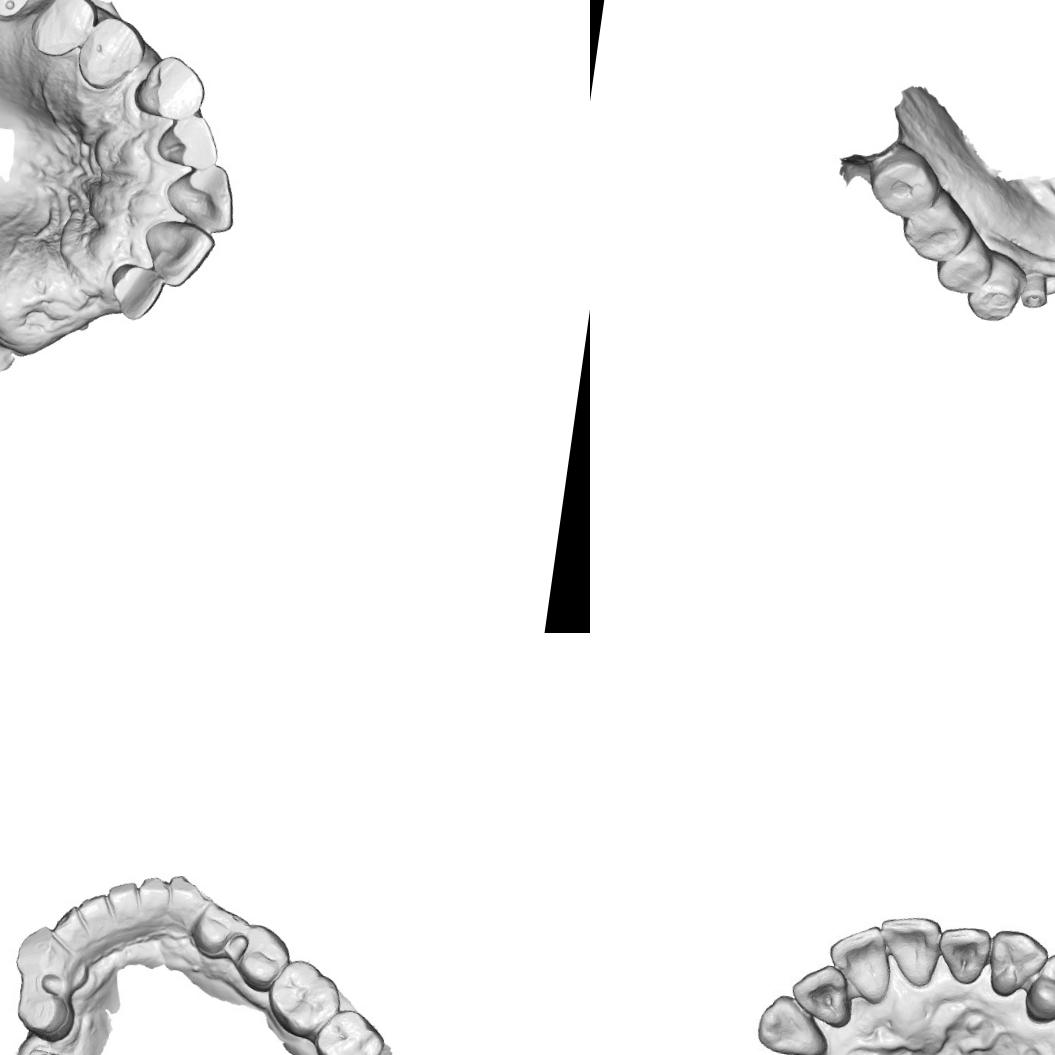abutment: (21, 1041, 73, 1055)
canine: (130, 51, 212, 125), (976, 926, 1046, 1002), (754, 989, 831, 1055), (8, 922, 76, 988), (162, 872, 213, 930)
implant: (1018, 268, 1052, 312), (0, 0, 32, 20)
incisor: (161, 157, 242, 235), (136, 216, 219, 292), (878, 912, 943, 989), (828, 924, 896, 997), (156, 110, 224, 172), (105, 261, 168, 325), (935, 919, 992, 989), (790, 963, 854, 1022), (134, 874, 173, 914), (104, 878, 138, 918), (76, 891, 109, 927), (50, 903, 82, 939)
molar: (262, 956, 346, 1043), (862, 137, 946, 223), (898, 185, 978, 266), (309, 1005, 388, 1055)
premolar: (75, 12, 150, 94), (25, 0, 102, 64), (963, 248, 1026, 325), (231, 921, 294, 996), (934, 228, 996, 296), (10, 986, 79, 1046), (187, 899, 248, 963), (1019, 947, 1055, 1030)
